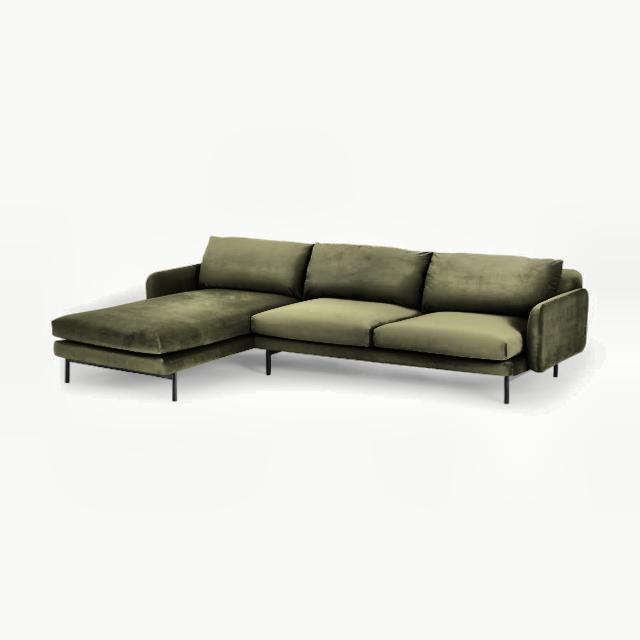sofa: (50, 237, 592, 406)
